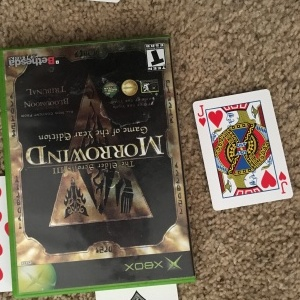card: (191, 88, 294, 212)
